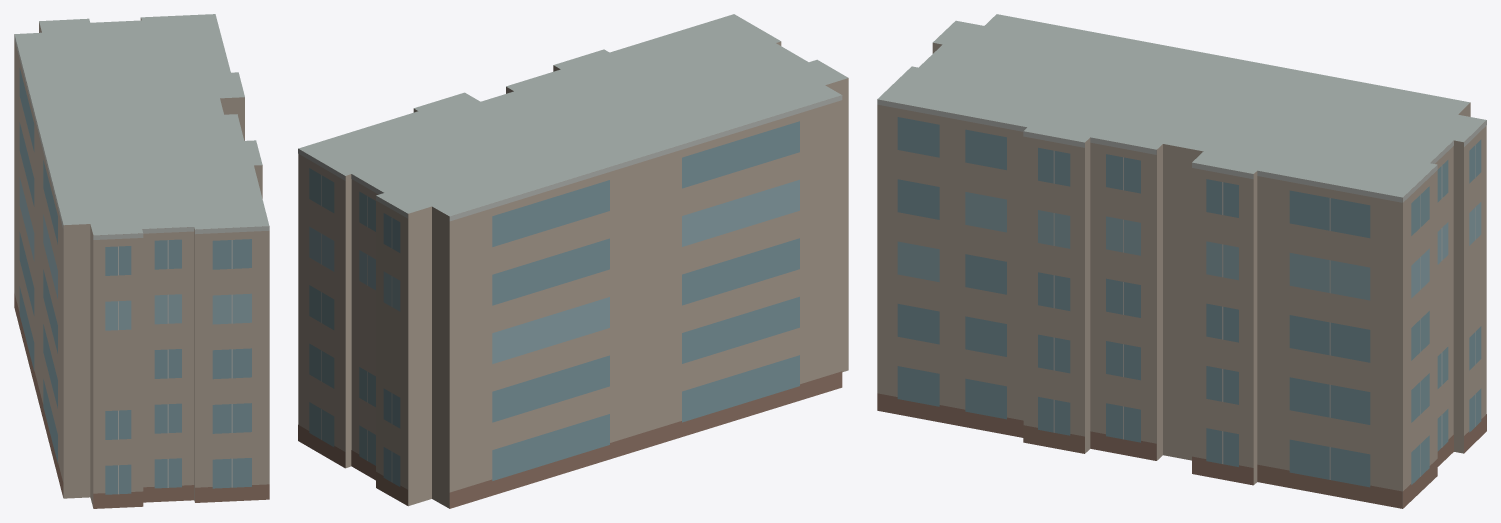
File: survey-upis-32632538.glb
3 views of the same model, side by side, from view 1: azimuth 30°, elevation 25°; view 2: azimuth 150°, elevation 25°; view 3: azimuth 270°, elevation 25° (orthographic). The views are drawn at different scales.
Parts seen in each view (by area): view 1: survey-upis-32632538.tmp; view 2: survey-upis-32632538.tmp; view 3: survey-upis-32632538.tmp.
Boxes of the visible parts, x1,y1,x2,y2 form: survey-upis-32632538.tmp: [14, 14, 269, 508]; survey-upis-32632538.tmp: [298, 14, 848, 508]; survey-upis-32632538.tmp: [877, 14, 1486, 508].
Bounding box in the file's own units: 18.09 × 14.3 × 25.38.
